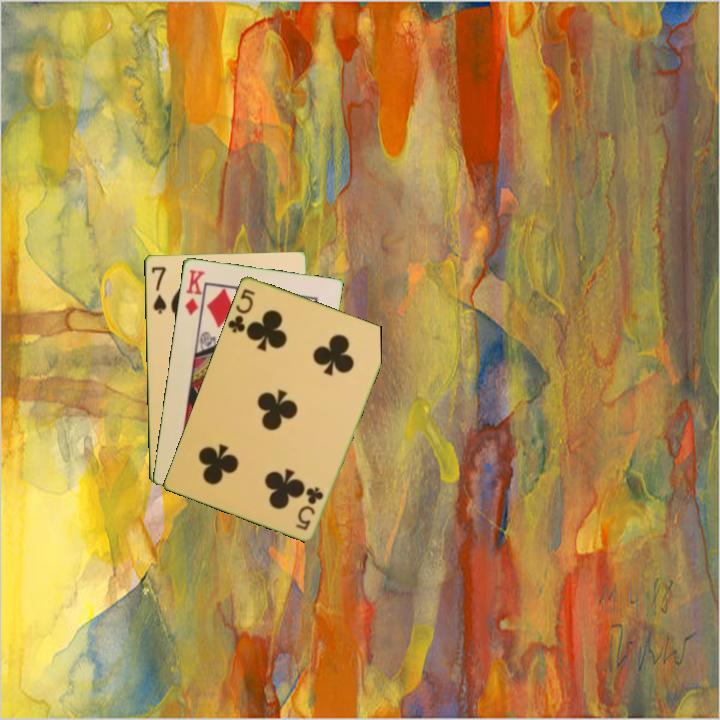5c: (224, 285, 258, 336), (292, 483, 326, 533)
7s: (147, 263, 169, 316)
Kd: (181, 266, 208, 318)
